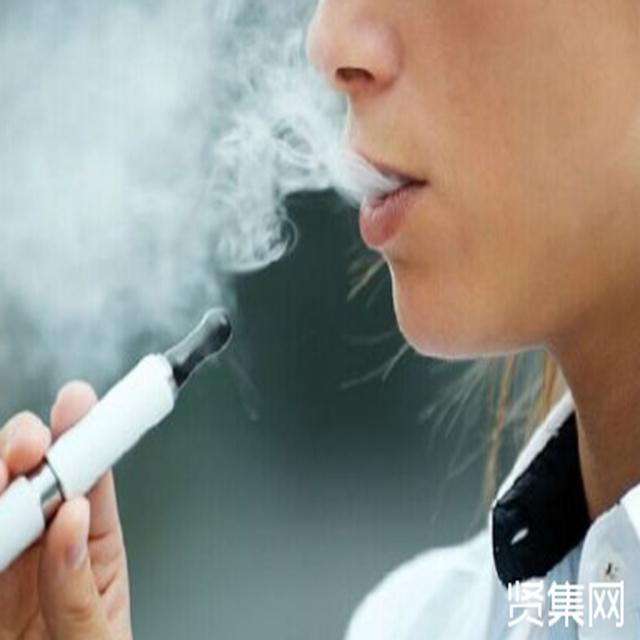smoking: (0, 11, 636, 638)
